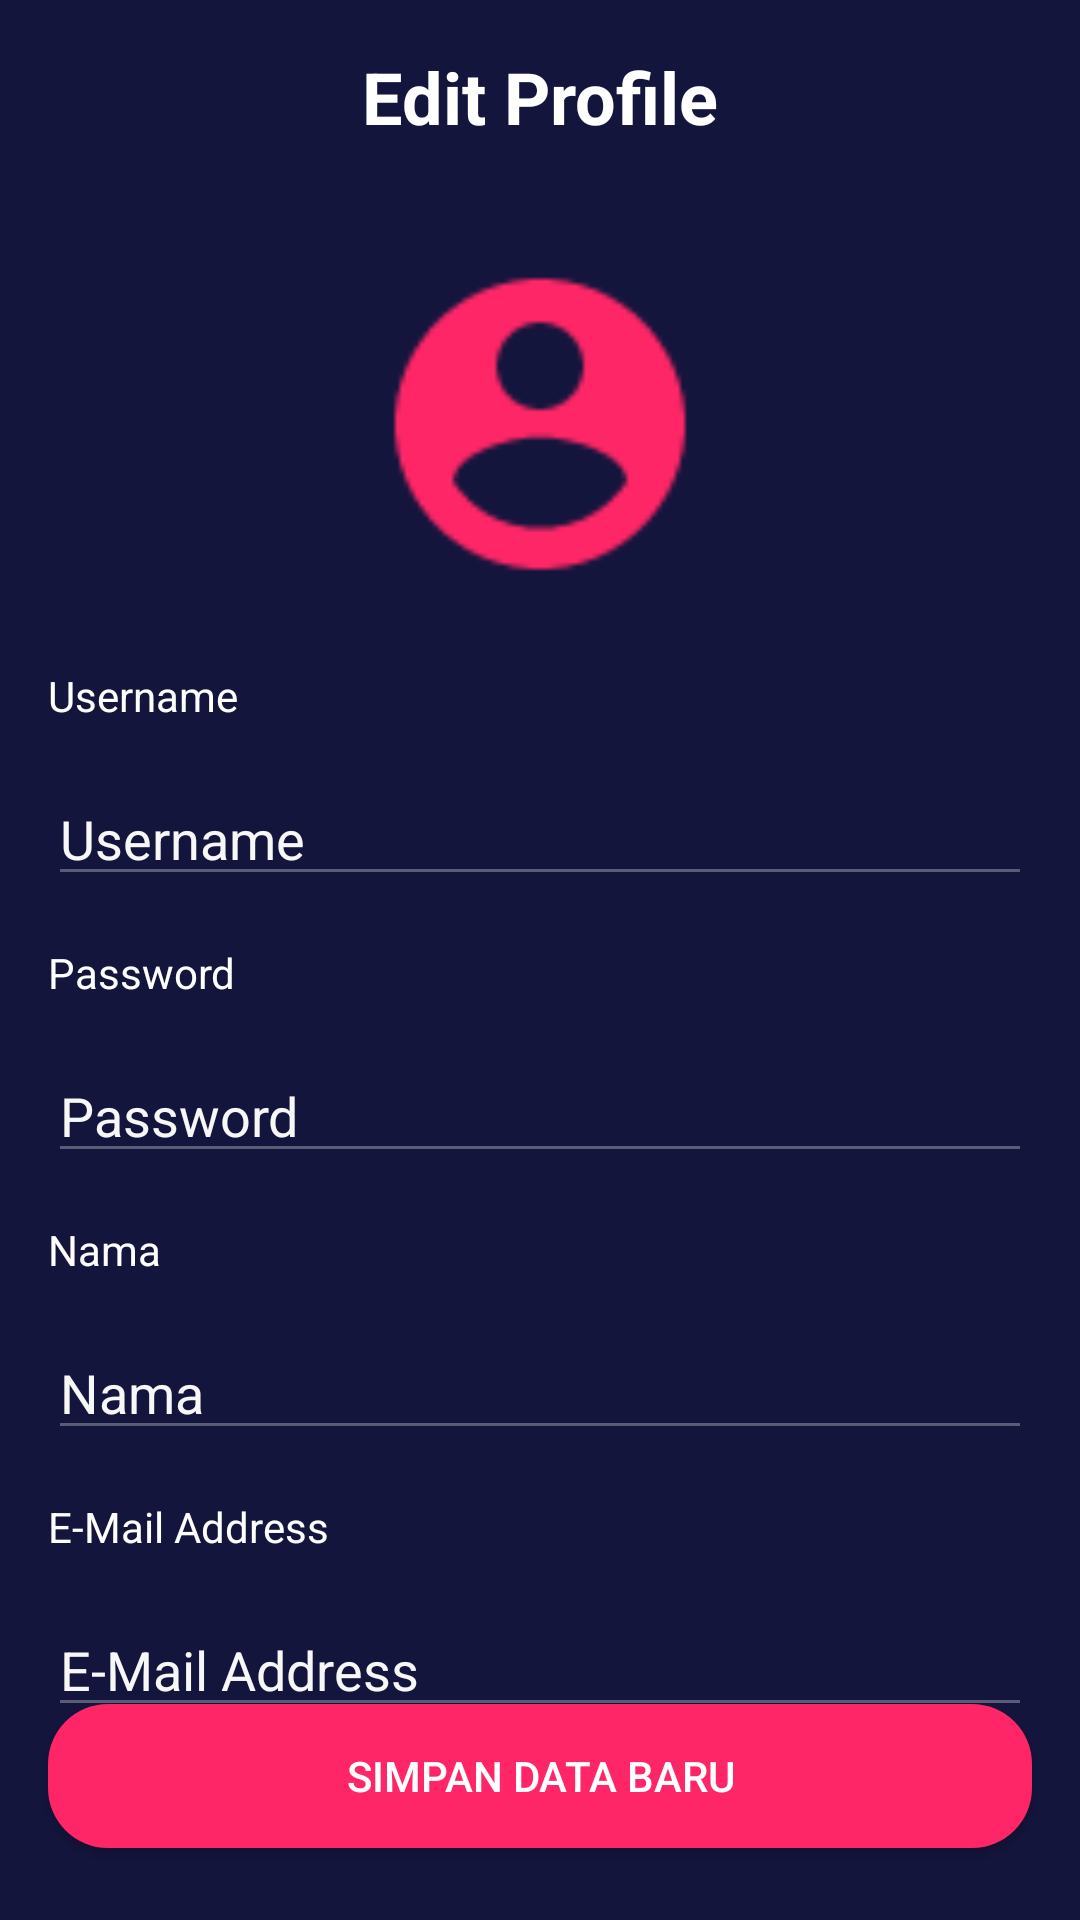

Icons on this 1080×1920 Android screen, each with its box as (x1, y1, x2, y2):
user pic: (393, 277, 687, 571)
